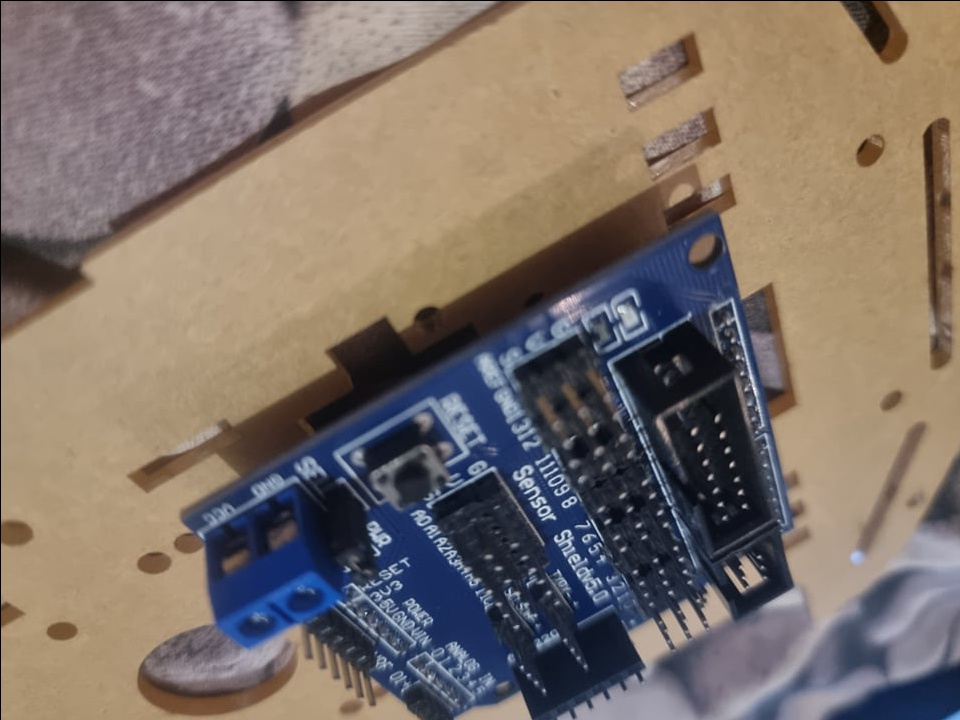5V EXPANSION: (178, 207, 800, 719)
